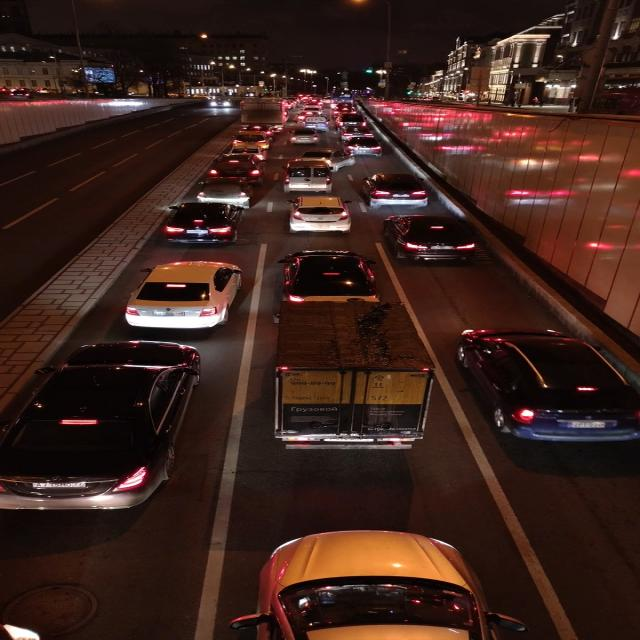Car: (0, 336, 210, 520), (250, 527, 505, 640), (452, 321, 640, 449), (114, 256, 247, 330), (282, 244, 390, 300), (378, 212, 482, 264), (164, 201, 244, 245), (359, 172, 435, 208), (284, 194, 352, 232), (194, 175, 261, 207), (279, 156, 335, 193), (206, 150, 265, 181), (228, 128, 272, 149), (344, 135, 387, 155), (310, 146, 352, 166), (288, 125, 324, 147), (344, 122, 376, 139)
Truck: (264, 294, 440, 461)
